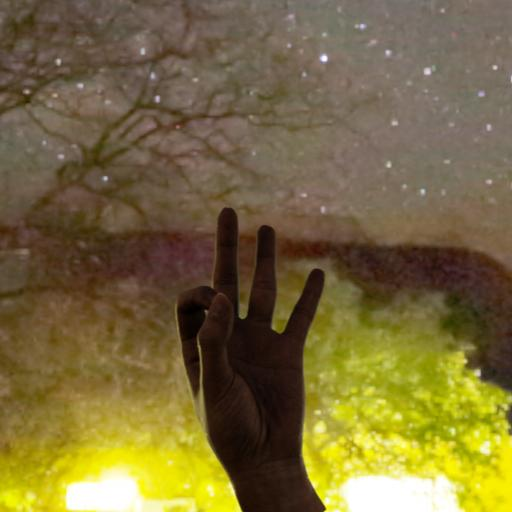F: (152, 200, 337, 449)
